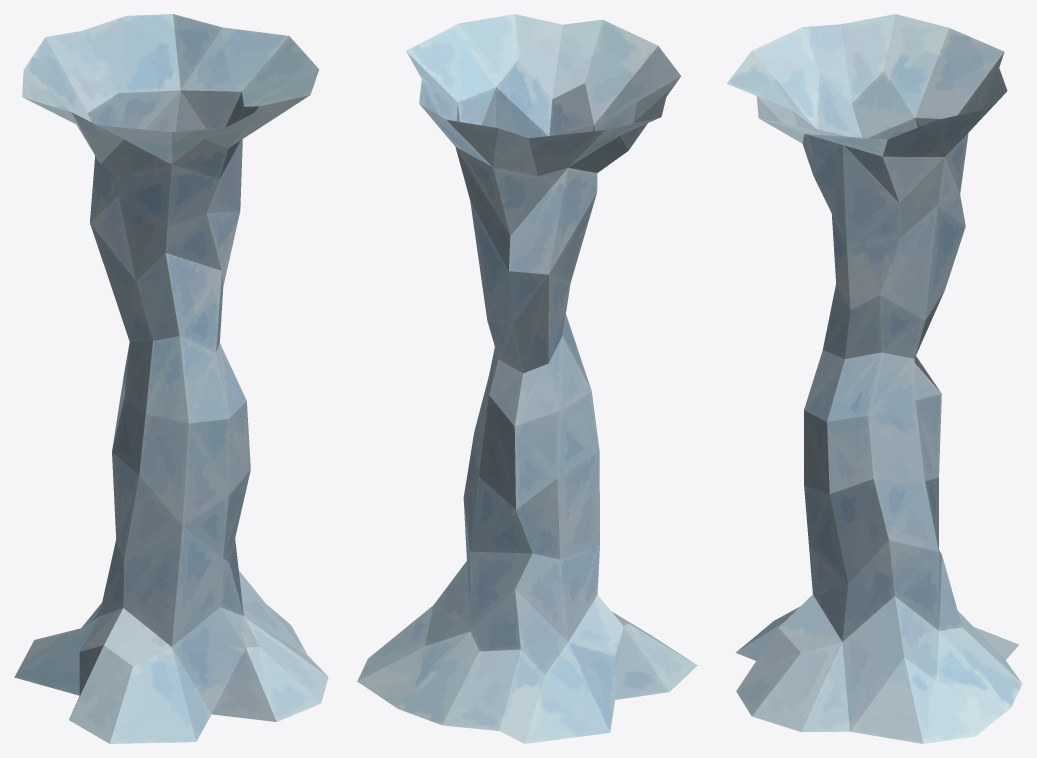
Rendered from cavepillar2.fbx.
3 views of the same model, side by side, from view 1: azimuth 30°, elevation 25°; view 2: azimuth 150°, elevation 25°; view 3: azimuth 270°, elevation 25° (orthographic). The views are drawn at different scales.
Visible parts, largest first — view 1: Cube.001; view 2: Cube.001; view 3: Cube.001.
Part boxes in pixels (x1,y1,x2,y2): Cube.001: (14,14,328,743); Cube.001: (357,14,697,743); Cube.001: (726,14,1022,743).
Size of the model in its own units: 958 by 1963 by 886.
